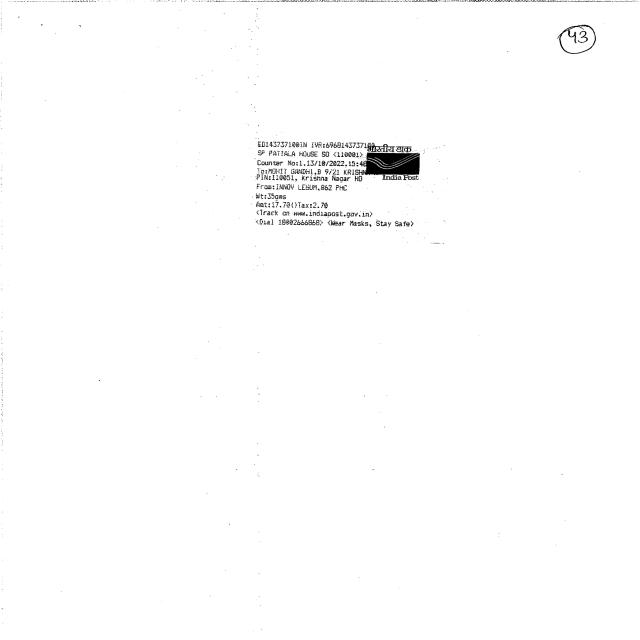page-number: (467, 1, 639, 73)
